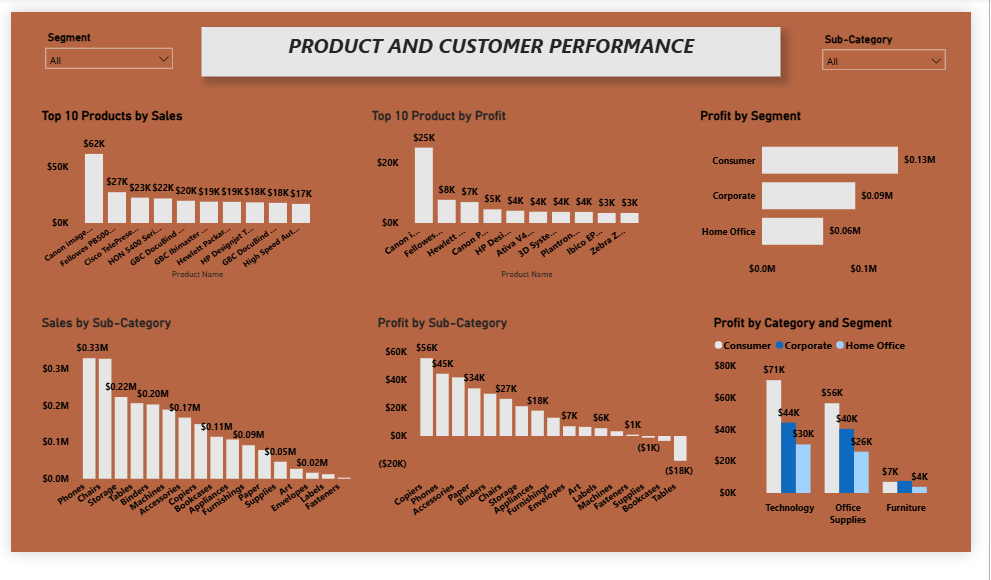

The dashboard page shown, as its layout file describes it:
{"tool":"powerbi","page":{"name":"PRODUCT & CUSTOMER PERFORMANCE","canvas":[1280,720],"ordinal":2},"visuals":[{"type":"clusteredColumnChart","title":"Sales by Sub-Category","fields":{"Y":["Sample_-_Superstore[1].Total Sales"],"Category":["Sample_-_Superstore[1].Sub-Category"]},"box":[36,404,430,288],"z":0},{"type":"clusteredColumnChart","title":"Profit by Sub-Category","fields":{"Y":["Sample_-_Superstore[1].Total Profit"],"Category":["Sample_-_Superstore[1].Sub-Category"]},"box":[484,404,430,288],"z":1000},{"type":"textbox","box":[254,20,772,66],"z":2000},{"type":"clusteredColumnChart","title":"Top 10 Products by Sales","fields":{"Category":["Sample_-_Superstore[1].Product Name"],"Y":["Sample_-_Superstore[1].Total Sales"]},"box":[36,128,380,232],"z":3000},{"type":"clusteredColumnChart","title":"Top 10 Product by Profit","fields":{"Category":["Sample_-_Superstore[1].Product Name"],"Y":["Sample_-_Superstore[1].Total Profit"]},"box":[476,128,378,232],"z":4000},{"type":"clusteredBarChart","title":"Profit by Segment","fields":{"Category":["Sample_-_Superstore[1].Segment"],"Y":["Sample_-_Superstore[1].Total Profit"]},"box":[914,128,342,232],"z":5000},{"type":"clusteredColumnChart","title":"Profit by Category and Segment","fields":{"Category":["Sample_-_Superstore[1].Category"],"Y":["Sample_-_Superstore[1].Total Profit"],"Series":["Sample_-_Superstore[1].Segment"]},"box":[932,404,328,288],"z":6000},{"type":"slicer","fields":{"Values":["Sample_-_Superstore[1].Segment"]},"box":[36,20,190,62],"z":7000},{"type":"slicer","fields":{"Values":["Sample_-_Superstore[1].Sub-Category"]},"box":[1072,22,184,64],"z":8000}]}

Visuals, with their boxes on the page's 1280x720 design canvas (x1, y1, x2, y2). These are canvas units, not pixel positions in the 991x580 screenshot, which may show the page scaled, cropped or inside an application window:
"Sales by Sub-Category" clusteredColumnChart: [36,404,466,692]
"Profit by Sub-Category" clusteredColumnChart: [484,404,914,692]
textbox: [254,20,1026,86]
"Top 10 Products by Sales" clusteredColumnChart: [36,128,416,360]
"Top 10 Product by Profit" clusteredColumnChart: [476,128,854,360]
"Profit by Segment" clusteredBarChart: [914,128,1256,360]
"Profit by Category and Segment" clusteredColumnChart: [932,404,1260,692]
slicer - Sample_-_Superstore[1].Segment: [36,20,226,82]
slicer - Sample_-_Superstore[1].Sub-Category: [1072,22,1256,86]
